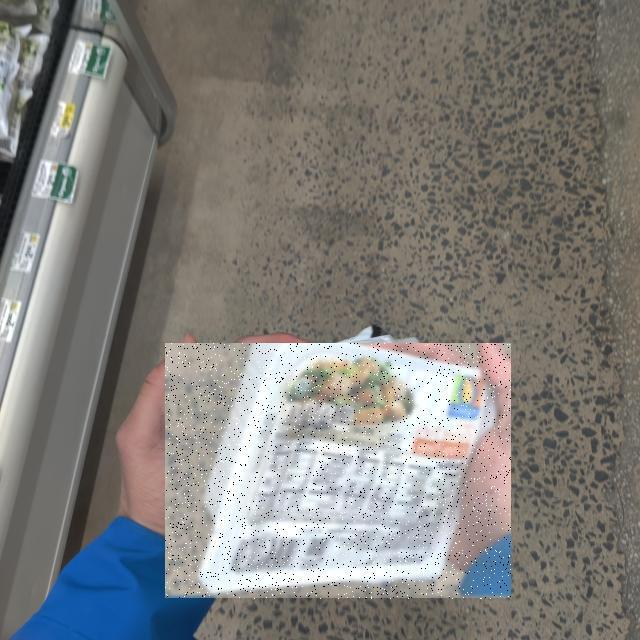Tofu: (165, 344, 511, 600)
